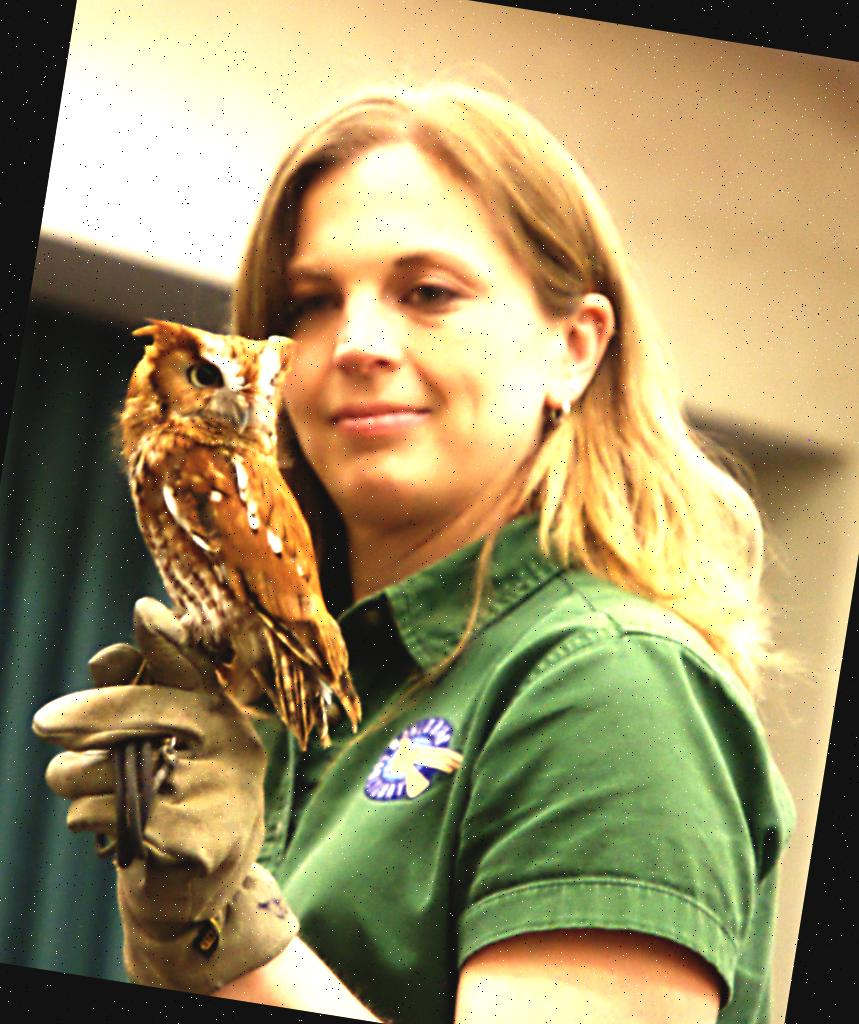Owl: (64, 305, 422, 768)
